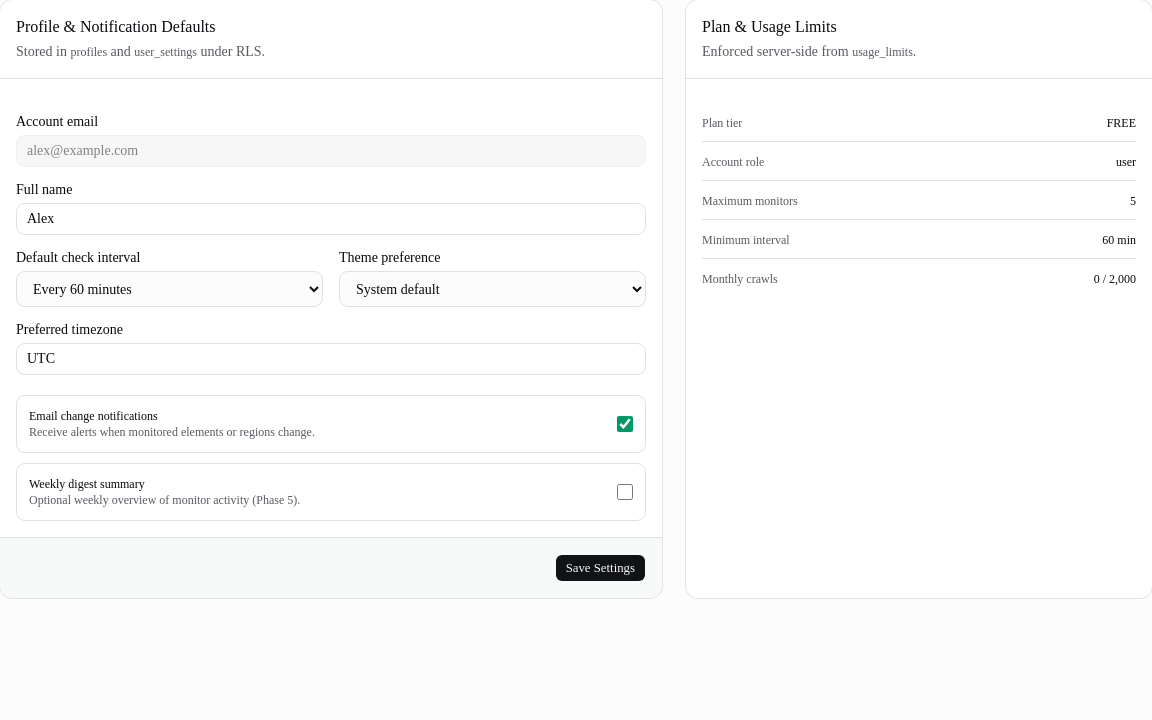
Test: SettingsForm UI › submits updated profile and notification settings
Replace the text in the field labelled "Full name" with "Alex Rivera" at (331, 219), box [16,203,646,235]
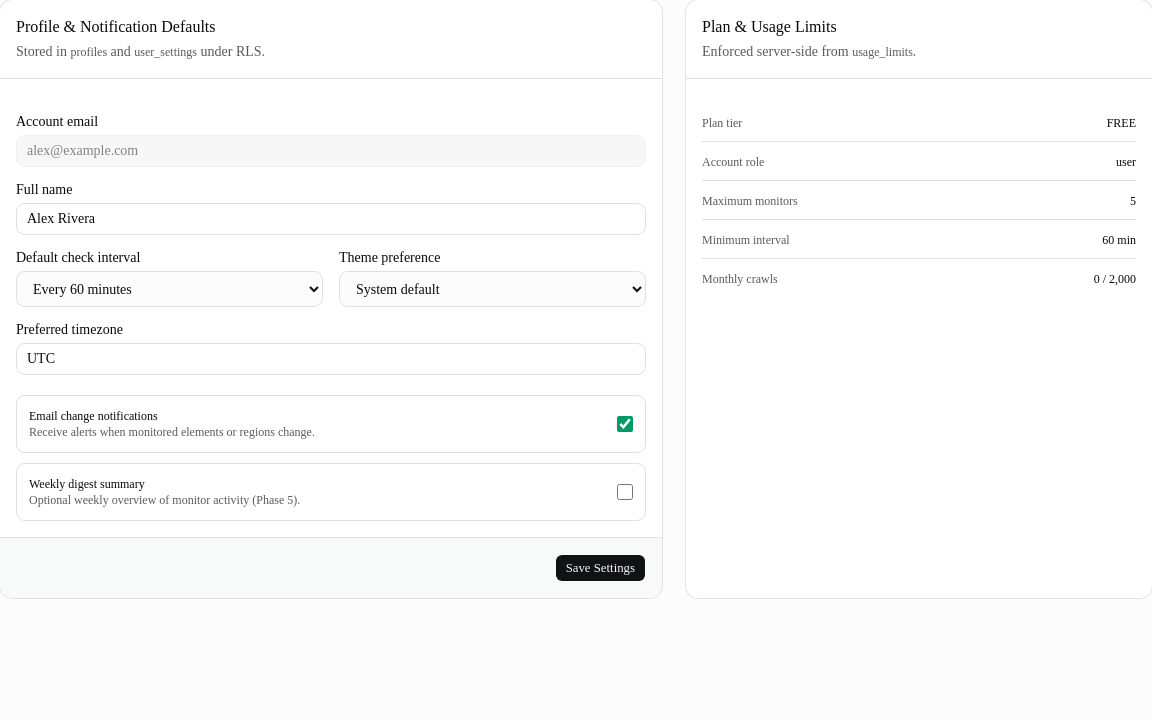
Click the button "Save Settings".
click(600, 568)  # box [555,554,646,582]
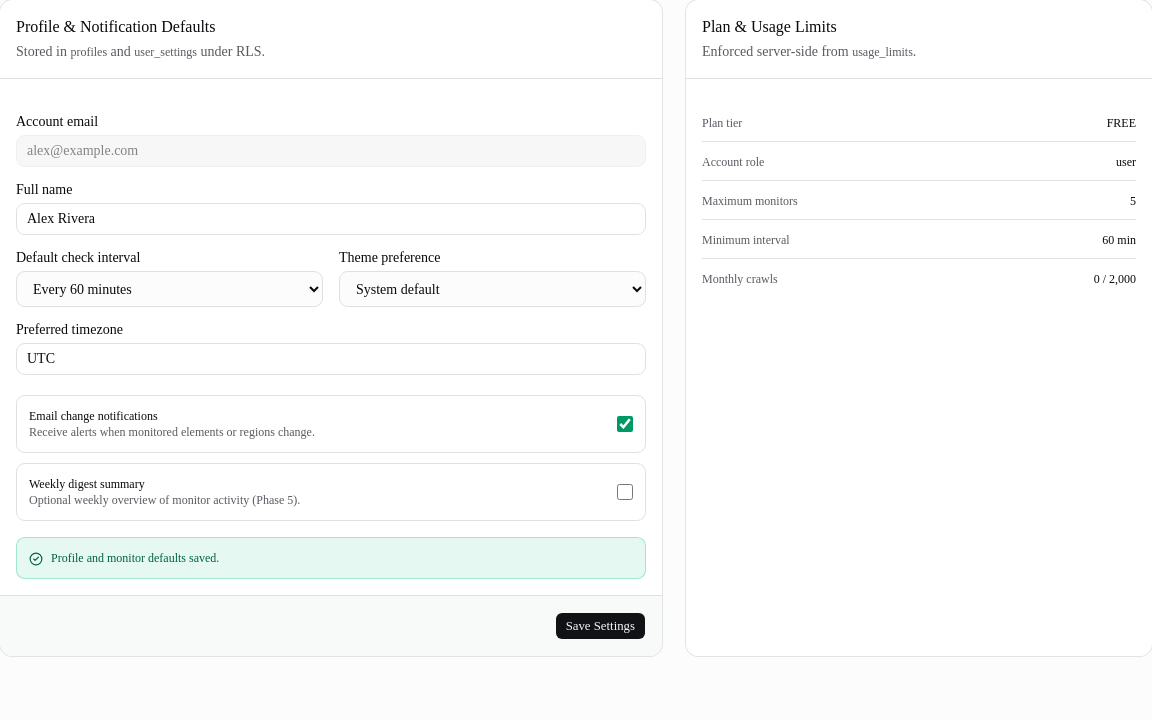
Result: the message shows "Profile and monitor defaults saved" at [51,551,219,565]
